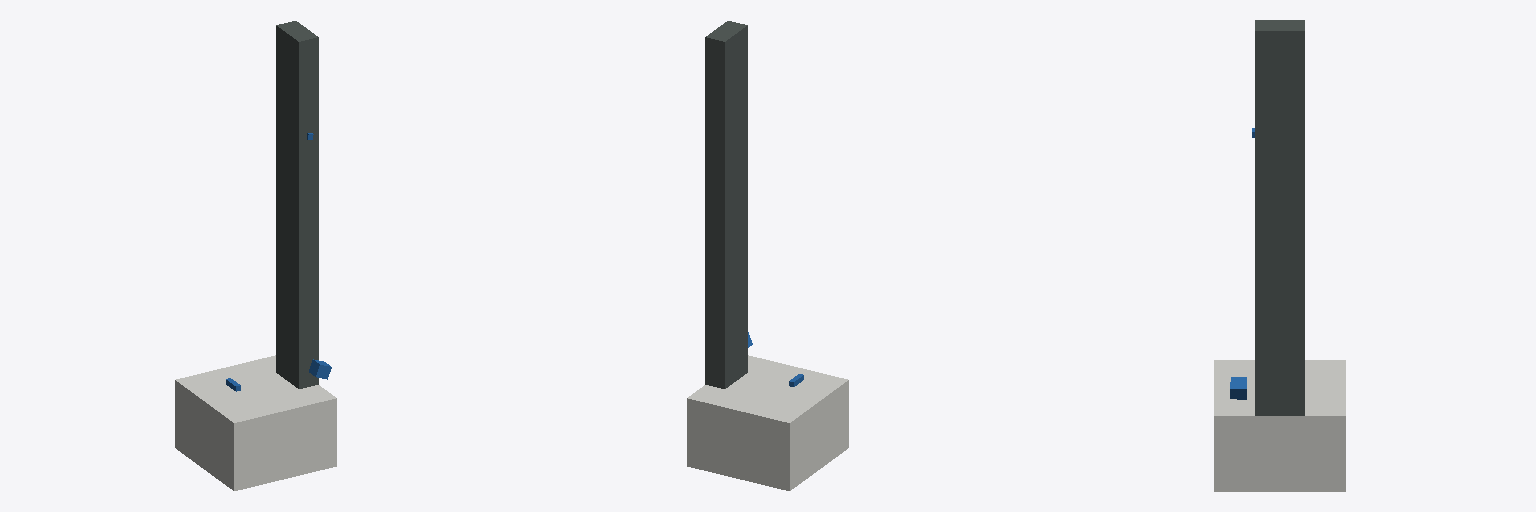
URDF robot description (alfred):
<?xml version="1.0"?>
<!-- Alfred: an i2rt FLOW holonomic base carrying a Livox Mid-360 and a RealSense
     D435i. Caster layout is the FLOW's own kinematic constant; the two sensor
     mounts are measured from the robot. -->
<robot name="alfred">

  <material name="shell"><color rgba="0.85 0.85 0.83 1"/></material>
  <material name="frame"><color rgba="0.35 0.38 0.37 1"/></material>
  <material name="rubber"><color rgba="0.11 0.11 0.10 1"/></material>
  <material name="sensor"><color rgba="0.20 0.45 0.70 1"/></material>

  <link name="base_link"/>

  <link name="base_body">
    <visual>
      <origin xyz="0 0 0.165" rpy="0 0 0"/>
      <geometry><box size="0.52 0.52 0.33"/></geometry>
      <material name="shell"/>
    </visual>
    <collision>
      <origin xyz="0 0 0.165" rpy="0 0 0"/>
      <geometry><box size="0.52 0.52 0.33"/></geometry>
    </collision>
    <inertial>
      <origin xyz="0 0 0.165" rpy="0 0 0"/>
      <mass value="60.0"/>
      <inertia ixx="1.6" ixy="0" ixz="0" iyy="1.6" iyz="0" izz="2.7"/>
    </inertial>
  </link>
  <joint name="base_body_joint" type="fixed">
    <parent link="base_link"/><child link="base_body"/>
    <origin xyz="0 0 0" rpy="0 0 0"/>
  </joint>

  <!-- Caster kingpin positions (FLOW h_x/h_y). -->
  <link name="caster_front_left_link">
    <visual>
      <origin xyz="0 0 0" rpy="1.5707963 0 0"/>
      <geometry><cylinder radius="0.05" length="0.04"/></geometry>
      <material name="rubber"/>
    </visual>
  </link>
  <joint name="caster_front_left_joint" type="fixed">
    <parent link="base_link"/><child link="caster_front_left_link"/>
    <origin xyz="0.2 0.2 0.05" rpy="0 0 0"/>
  </joint>

  <link name="caster_front_right_link">
    <visual>
      <origin xyz="0 0 0" rpy="1.5707963 0 0"/>
      <geometry><cylinder radius="0.05" length="0.04"/></geometry>
      <material name="rubber"/>
    </visual>
  </link>
  <joint name="caster_front_right_joint" type="fixed">
    <parent link="base_link"/><child link="caster_front_right_link"/>
    <origin xyz="0.2 -0.2 0.05" rpy="0 0 0"/>
  </joint>

  <link name="caster_rear_left_link">
    <visual>
      <origin xyz="0 0 0" rpy="1.5707963 0 0"/>
      <geometry><cylinder radius="0.05" length="0.04"/></geometry>
      <material name="rubber"/>
    </visual>
  </link>
  <joint name="caster_rear_left_joint" type="fixed">
    <parent link="base_link"/><child link="caster_rear_left_link"/>
    <origin xyz="-0.2 0.2 0.05" rpy="0 0 0"/>
  </joint>

  <link name="caster_rear_right_link">
    <visual>
      <origin xyz="0 0 0" rpy="1.5707963 0 0"/>
      <geometry><cylinder radius="0.05" length="0.04"/></geometry>
      <material name="rubber"/>
    </visual>
  </link>
  <joint name="caster_rear_right_joint" type="fixed">
    <parent link="base_link"/><child link="caster_rear_right_link"/>
    <origin xyz="-0.2 -0.2 0.05" rpy="0 0 0"/>
  </joint>

  <!-- Lift mast at the front center of the deck. Height MEASURED 2026-08-26 from
       the side photo, scaled by the FLOW base height (deck top 0.33 m above
       floor): mast top 2.01 m above floor -> 1.68 m of extrusion above the deck. -->
  <link name="mast_link">
    <visual>
      <origin xyz="0 0 0.84" rpy="0 0 0"/>
      <geometry><box size="0.10 0.20 1.68"/></geometry>
      <material name="frame"/>
    </visual>
    <collision>
      <origin xyz="0 0 0.84" rpy="0 0 0"/>
      <geometry><box size="0.10 0.20 1.68"/></geometry>
    </collision>
  </link>
  <joint name="mast_joint" type="fixed">
    <parent link="base_link"/><child link="mast_link"/>
    <origin xyz="0.21 0 0.331" rpy="0 0 0"/>
  </joint>

  <!-- Livox Mid-360 on an angled bracket, pitched ~22.5 deg forward.
       Calibrated 2026-08-17 from point-lio odometry vs wheel spin-in-place
       segments (drive_2026-08-16_23-46-03.db, 3-6 mm residual). -->
  <link name="mid360_link">
    <visual>
      <origin xyz="0 0 0" rpy="0 0 0"/>
      <geometry><box size="0.065 0.065 0.06"/></geometry>
      <material name="sensor"/>
    </visual>
  </link>
  <joint name="mid360_joint" type="fixed">
    <parent link="base_link"/><child link="mid360_link"/>
    <origin xyz="0.2307 -0.1636 0.437" rpy="-0.0096 0.3933 -0.0219"/>
  </joint>
  <!-- The Mid-360's ICM-40609 sits off the point-cloud origin's axis; offset from
       the official Livox extrinsic (extrinsic_T flipped), axes already aligned. -->
  <link name="mid360_imu_link"/>
  <joint name="mid360_imu_joint" type="fixed">
    <parent link="mid360_link"/><child link="mid360_imu_link"/>
    <origin xyz="0.011 0.02329 -0.04412" rpy="0 0 0"/>
  </joint>

  <!-- RealSense D435i mounted upside-down at the rear, centered left-right,
       facing off the back, on a 40 mm extrusion rail lying on the deck about
       12 cm inboard of the rear edge. ESTIMATED 2026-08-26 from photos
       (deck 0.33 + 0.040 rail + ~0.008 mount + 0.0125 half body = 0.391);
       needs a spin calibration like the old D455 mount had.
       Roll pi = upside-down, yaw pi = facing rearward.
       camera_link sits at the depth (left infrared) imager, which is where the
       RealSense driver puts it; child offsets below are nominal D435i values,
       replace with factory extrinsics read back off the device. -->
  <link name="camera_link">
    <!-- The link sits at the left IR imager, not the housing center, so the box
         is offset along -y (infra2 is 50 mm along -y, housing 90 mm wide). -->
    <visual>
      <origin xyz="0 -0.025 0" rpy="0 0 0"/>
      <geometry><box size="0.025 0.090 0.025"/></geometry>
      <material name="sensor"/>
    </visual>
  </link>
  <joint name="camera_joint" type="fixed">
    <parent link="base_link"/><child link="camera_link"/>
    <origin xyz="-0.13 0 0.391" rpy="3.1415927 0 3.1415927"/>
  </joint>

  <link name="camera_depth_frame"/>
  <joint name="camera_depth_joint" type="fixed">
    <parent link="camera_link"/><child link="camera_depth_frame"/>
    <origin xyz="0 0 0" rpy="0 0 0"/>
  </joint>
  <link name="camera_depth_optical_frame"/>
  <joint name="camera_depth_optical_joint" type="fixed">
    <parent link="camera_depth_frame"/><child link="camera_depth_optical_frame"/>
    <origin xyz="0 0 0" rpy="-1.5707963 0 -1.5707963"/>
  </joint>

  <link name="camera_color_frame"/>
  <joint name="camera_color_joint" type="fixed">
    <parent link="camera_link"/><child link="camera_color_frame"/>
    <origin xyz="0 -0.015 0" rpy="0 0 0"/>
  </joint>
  <link name="camera_color_optical_frame"/>
  <joint name="camera_color_optical_joint" type="fixed">
    <parent link="camera_color_frame"/><child link="camera_color_optical_frame"/>
    <origin xyz="0 0 0" rpy="-1.5707963 0 -1.5707963"/>
  </joint>

  <link name="camera_infra1_frame"/>
  <joint name="camera_infra1_joint" type="fixed">
    <parent link="camera_link"/><child link="camera_infra1_frame"/>
    <origin xyz="0 0 0" rpy="0 0 0"/>
  </joint>
  <link name="camera_infra1_optical_frame"/>
  <joint name="camera_infra1_optical_joint" type="fixed">
    <parent link="camera_infra1_frame"/><child link="camera_infra1_optical_frame"/>
    <origin xyz="0 0 0" rpy="-1.5707963 0 -1.5707963"/>
  </joint>

  <link name="camera_infra2_frame"/>
  <joint name="camera_infra2_joint" type="fixed">
    <parent link="camera_link"/><child link="camera_infra2_frame"/>
    <origin xyz="0 -0.050 0" rpy="0 0 0"/>
  </joint>
  <link name="camera_infra2_optical_frame"/>
  <joint name="camera_infra2_optical_joint" type="fixed">
    <parent link="camera_infra2_frame"/><child link="camera_infra2_optical_frame"/>
    <origin xyz="0 0 0" rpy="-1.5707963 0 -1.5707963"/>
  </joint>

  <link name="camera_accel_frame"/>
  <joint name="camera_accel_joint" type="fixed">
    <parent link="camera_link"/><child link="camera_accel_frame"/>
    <origin xyz="-0.0112 -0.0055 0.0051" rpy="0 0 0"/>
  </joint>
  <link name="camera_accel_optical_frame"/>
  <joint name="camera_accel_optical_joint" type="fixed">
    <parent link="camera_accel_frame"/><child link="camera_accel_optical_frame"/>
    <origin xyz="0 0 0" rpy="-1.5707963 0 -1.5707963"/>
  </joint>

  <!-- RealSense D455 on the mast, centered left-right, facing forward, pitched
       down. Frame prefix d455 so it can coexist with the rear D435i (camera_*);
       run the driver with camera_name="d455". Child offsets are nominal D455
       values (95 mm IR baseline). -->
  <link name="d455_link">
    <!-- The link sits at the left IR imager (RealSense convention), ~15 mm from
         the left end of the 124 mm housing, so the box is offset along -y. -->
    <visual>
      <origin xyz="0 -0.0475 0" rpy="0 0 0"/>
      <geometry><box size="0.026 0.124 0.029"/></geometry>
      <material name="sensor"/>
    </visual>
  </link>
  <!-- Solved from drive_2026-08-18_23-05-04 by registering D455 depth against the
       point-lio lidar map (median error 5.6 -> 3.1 cm, inliers 44% -> 78%). Only z
       is tightly resolved; x and y are bounded to about +/-3 cm, so treat them as a
       best estimate rather than a measurement. -->
  <joint name="d455_joint" type="fixed">
    <parent link="base_link"/><child link="d455_link"/>
    <origin xyz="0.2146 -0.0008 1.5435" rpy="0.0012 0.1448 -0.0106"/>
  </joint>

  <link name="d455_depth_frame"/>
  <joint name="d455_depth_joint" type="fixed">
    <parent link="d455_link"/><child link="d455_depth_frame"/>
    <origin xyz="0 0 0" rpy="0 0 0"/>
  </joint>
  <link name="d455_depth_optical_frame"/>
  <joint name="d455_depth_optical_joint" type="fixed">
    <parent link="d455_depth_frame"/><child link="d455_depth_optical_frame"/>
    <origin xyz="0 0 0" rpy="-1.5707963 0 -1.5707963"/>
  </joint>

  <link name="d455_color_frame"/>
  <joint name="d455_color_joint" type="fixed">
    <parent link="d455_link"/><child link="d455_color_frame"/>
    <origin xyz="0 -0.029 0" rpy="0 0 0"/>
  </joint>
  <link name="d455_color_optical_frame"/>
  <joint name="d455_color_optical_joint" type="fixed">
    <parent link="d455_color_frame"/><child link="d455_color_optical_frame"/>
    <origin xyz="0 0 0" rpy="-1.5707963 0 -1.5707963"/>
  </joint>

  <link name="d455_infra1_frame"/>
  <joint name="d455_infra1_joint" type="fixed">
    <parent link="d455_link"/><child link="d455_infra1_frame"/>
    <origin xyz="0 0 0" rpy="0 0 0"/>
  </joint>
  <link name="d455_infra1_optical_frame"/>
  <joint name="d455_infra1_optical_joint" type="fixed">
    <parent link="d455_infra1_frame"/><child link="d455_infra1_optical_frame"/>
    <origin xyz="0 0 0" rpy="-1.5707963 0 -1.5707963"/>
  </joint>

  <link name="d455_infra2_frame"/>
  <joint name="d455_infra2_joint" type="fixed">
    <parent link="d455_link"/><child link="d455_infra2_frame"/>
    <origin xyz="0 -0.095 0" rpy="0 0 0"/>
  </joint>
  <link name="d455_infra2_optical_frame"/>
  <joint name="d455_infra2_optical_joint" type="fixed">
    <parent link="d455_infra2_frame"/><child link="d455_infra2_optical_frame"/>
    <origin xyz="0 0 0" rpy="-1.5707963 0 -1.5707963"/>
  </joint>

  <link name="d455_accel_frame"/>
  <joint name="d455_accel_joint" type="fixed">
    <parent link="d455_link"/><child link="d455_accel_frame"/>
    <origin xyz="-0.0160 -0.0302 0.0074" rpy="0 0 0"/>
  </joint>
  <link name="d455_accel_optical_frame"/>
  <joint name="d455_accel_optical_joint" type="fixed">
    <parent link="d455_accel_frame"/><child link="d455_accel_optical_frame"/>
    <origin xyz="0 0 0" rpy="-1.5707963 0 -1.5707963"/>
  </joint>

</robot>

--- What the picture shows (computed from the rendered views, not written in the file) ---
3 views of the same robot in one strip: view 1: azimuth 30°, elevation 25°; view 2: azimuth 150°, elevation 25°; view 3: azimuth 270°, elevation 25° (orthographic).
Model alfred with 31 links and 30 joints (30 fixed), rooted at base_link, posed every joint at zero.
Links seen in each view (by area): view 1: base_body, mast_link; view 2: base_body, mast_link; view 3: mast_link, base_body.
Boxes of the visible links, x1=… form: base_body: x1=175, y1=355, x2=336, y2=490; mast_link: x1=276, y1=21, x2=318, y2=388; base_body: x1=687, y1=355, x2=848, y2=490; mast_link: x1=705, y1=21, x2=747, y2=388; mast_link: x1=1255, y1=20, x2=1304, y2=415; base_body: x1=1214, y1=360, x2=1345, y2=491.
Size in the robot's own frame: 0.5328 by 0.52 by 2.01 metres.
Geometry: primitives only (box / cylinder / sphere), no mesh files.
